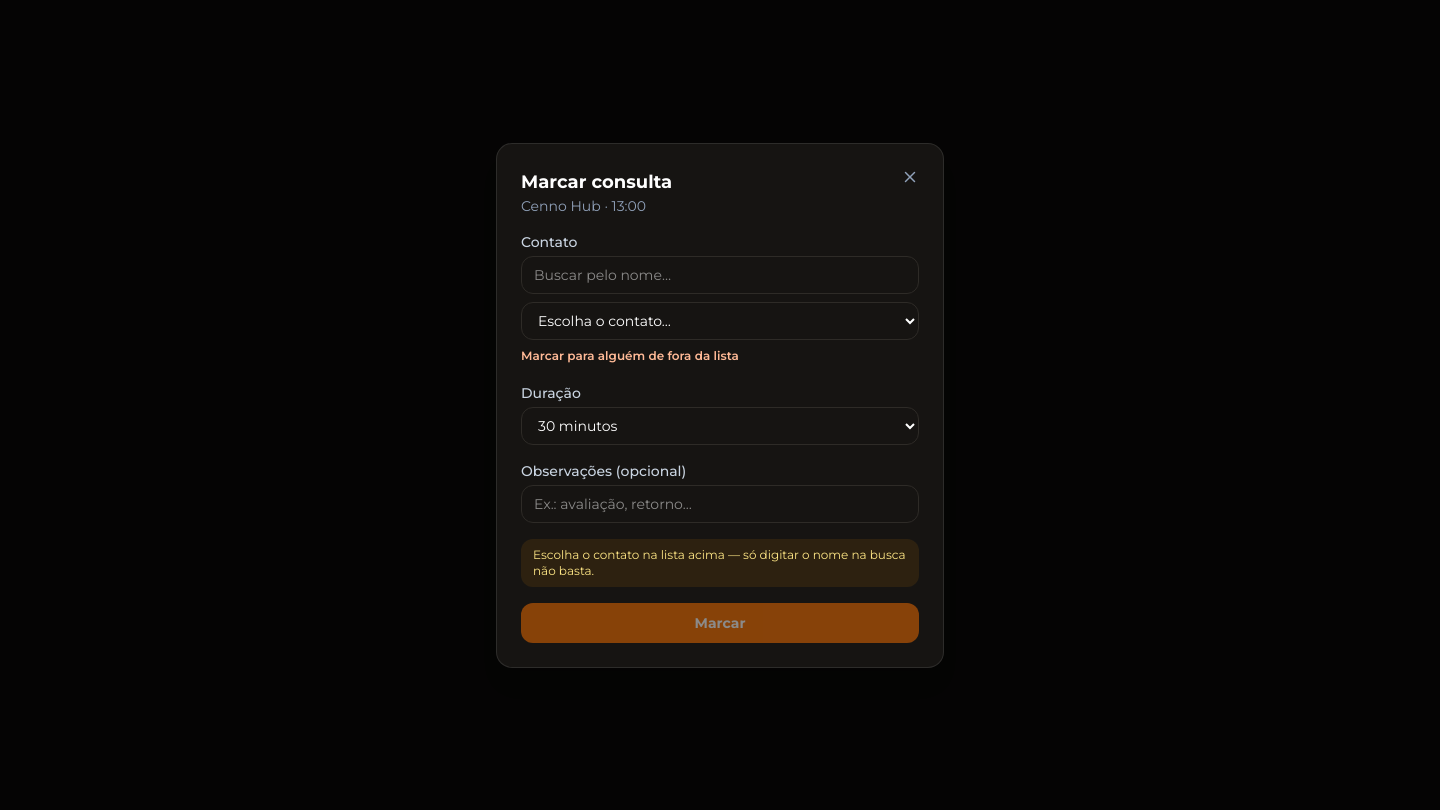
MarcarConsultaModal — o botão não fica mudo › escolher o contato na lista habilita o botão e some o aviso
Step 1. Select "Púlpitos Gênesis" in the dropdown named "contato da consulta" → [720, 320], box [521,302,919,340]
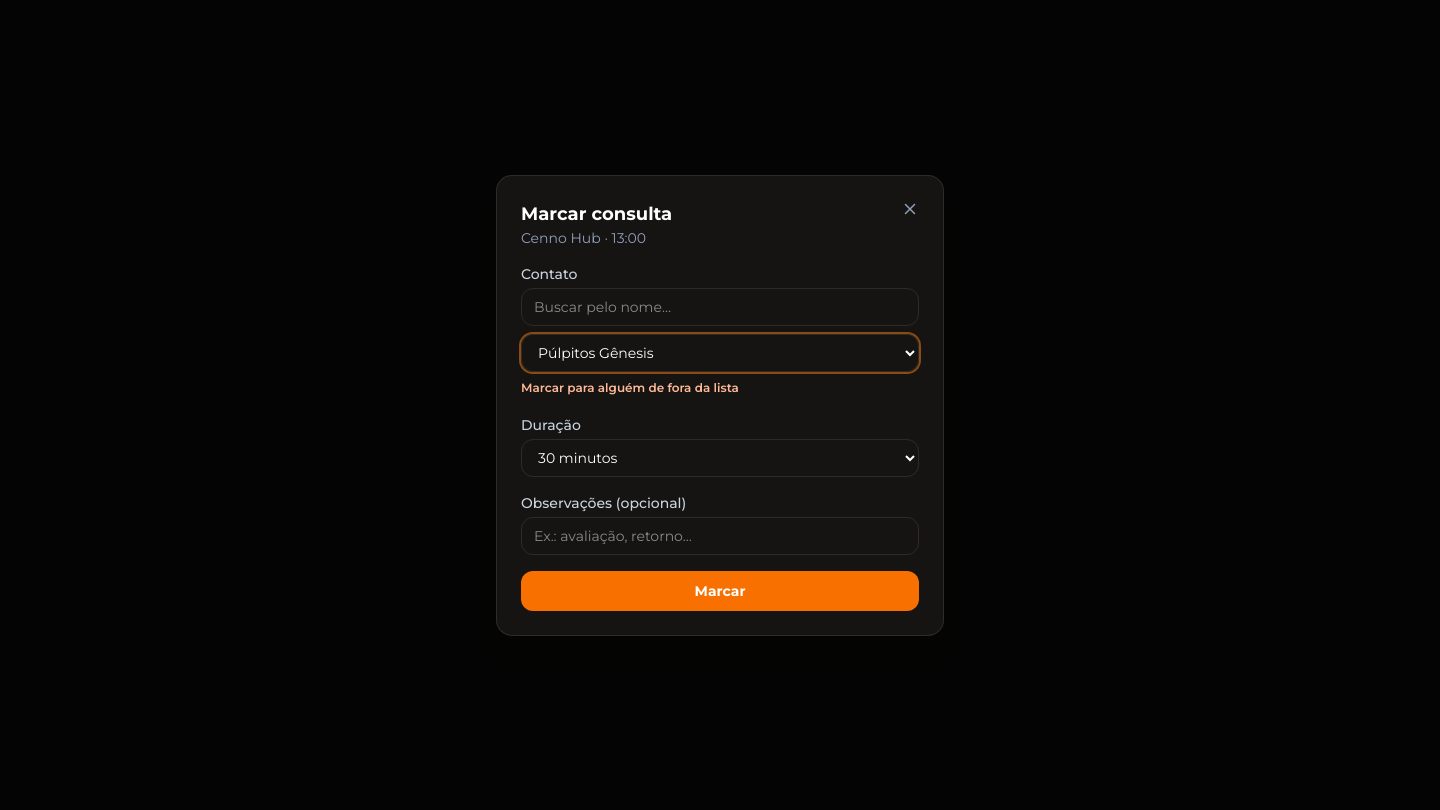
Now the button "Marcar" is enabled, box [521,570,919,610]
Now the message "Escolha o contato na lista acima — só digitar o nome na busca não basta." is gone
